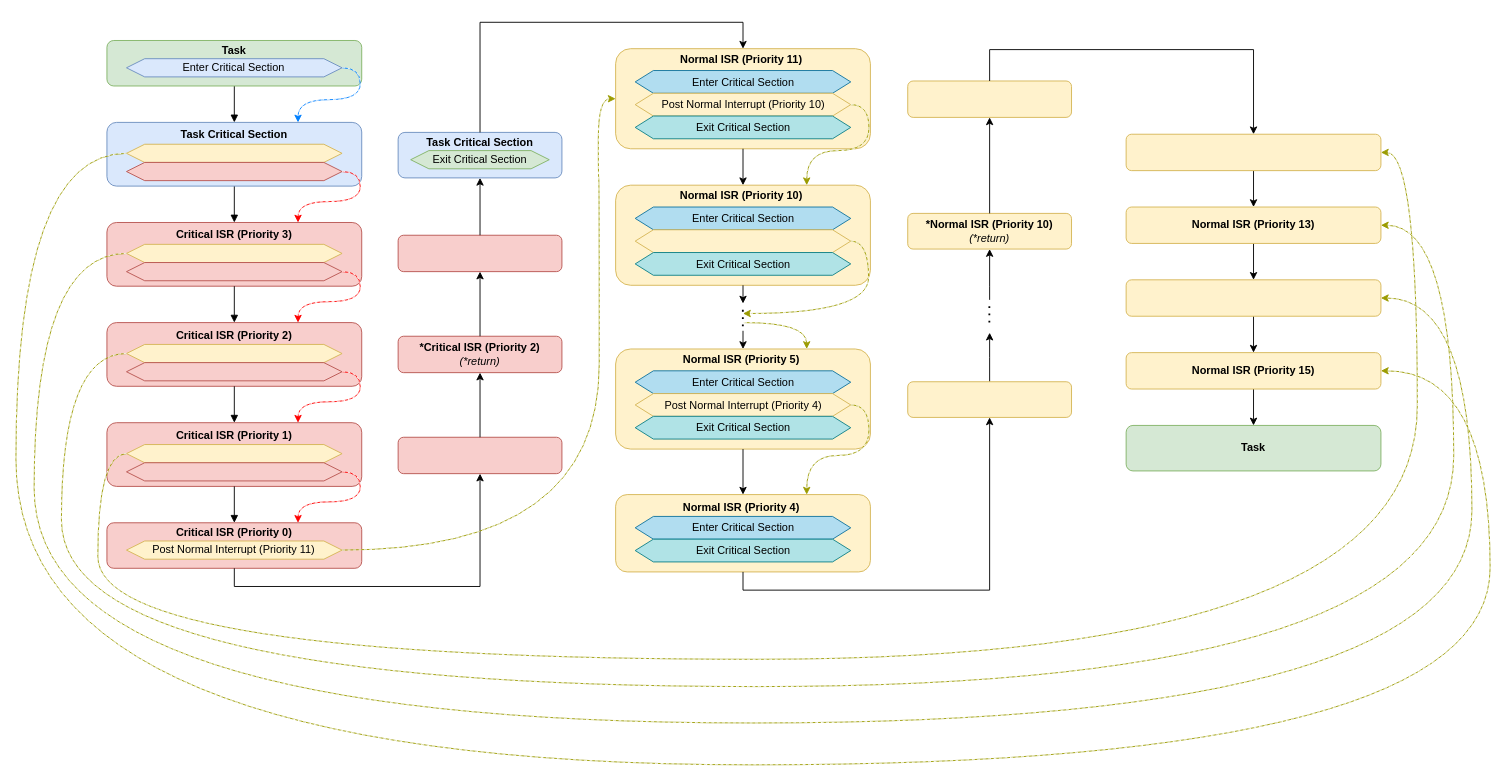
This 1506x781 diagram has some shape labels left out. Each missing label, with the centre of its shape:
"*Critical ISR (Priority 1) (*return)" goes at pixel 479 455.
"*Critical ISR (Priority 3) (*return)" goes at pixel 479 253.
"*Normal ISR (Priority 11) (*return)" goes at pixel 989 98.
"*Normal ISR (Priority 5) (*return)" goes at pixel 989 399.
"Normal ISR (Priority 12)" goes at pixel 1253 152.
"Normal ISR (Priority 14)" goes at pixel 1253 297.
"Post Critical Interrupt (Priority 0)" goes at pixel 234 471.
"Post Critical Interrupt (Priority 1)" goes at pixel 234 371.
"Post Critical Interrupt (Priority 2)" goes at pixel 234 271.
"Post Critical Interrupt (Priority 3)" goes at pixel 234 171.
"Post Normal Interrupt (Priority 12)" goes at pixel 234 453.
"Post Normal Interrupt (Priority 13)" goes at pixel 234 353.
"Post Normal Interrupt (Priority 14)" goes at pixel 234 253.
"Post Normal Interrupt (Priority 15)" goes at pixel 234 152.
"Post Normal Interrupt (Priority 9 )" goes at pixel 742 241.
